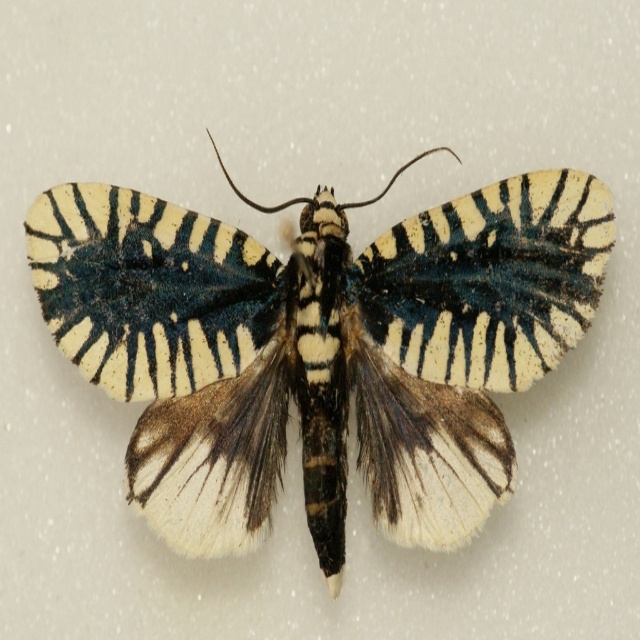Moths and butterflies: (23, 127, 619, 601)
